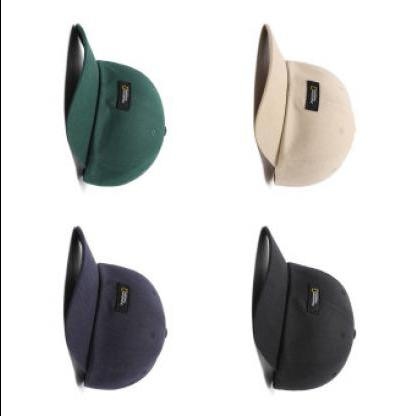cap: (250, 17, 368, 194), (57, 224, 167, 393), (247, 226, 356, 393), (61, 21, 166, 188)
